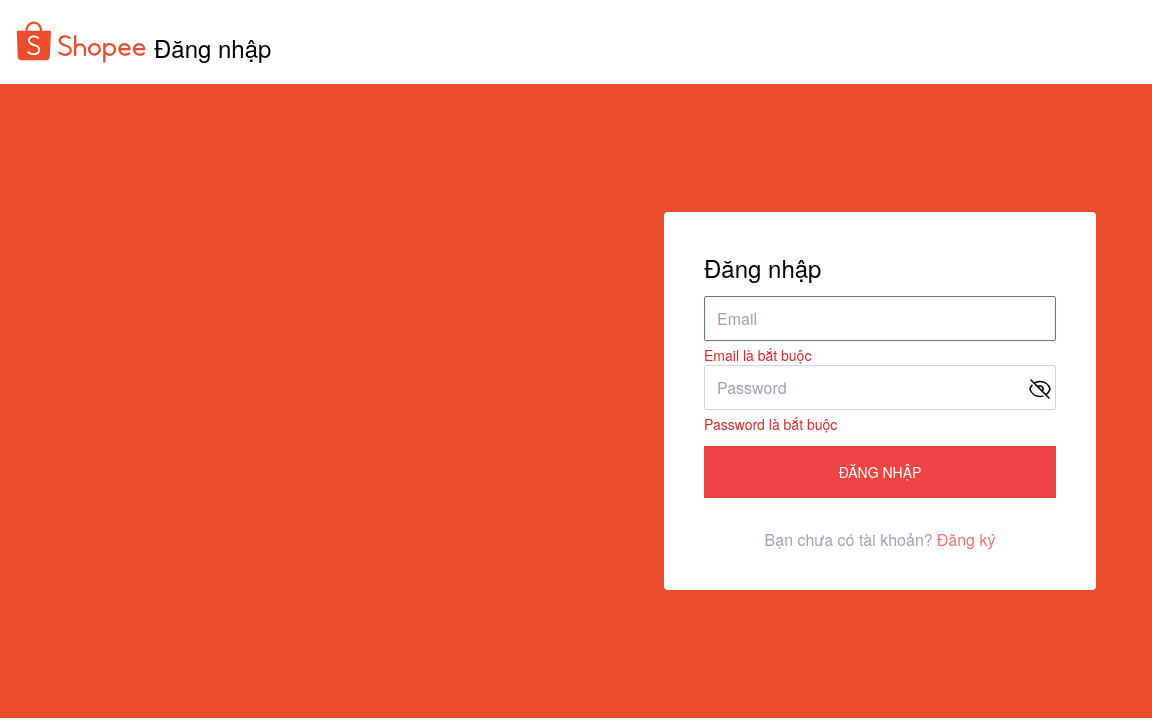
Test: Login › Hiển thị lỗi khi nhập không đúng định dạng
This screenshot has width=1152, height=720.
Type "test@mail" into the field with placeholder "Email".
click(880, 319); type("test@mail")  # box top-left (704, 296), bottom-right (1056, 341)
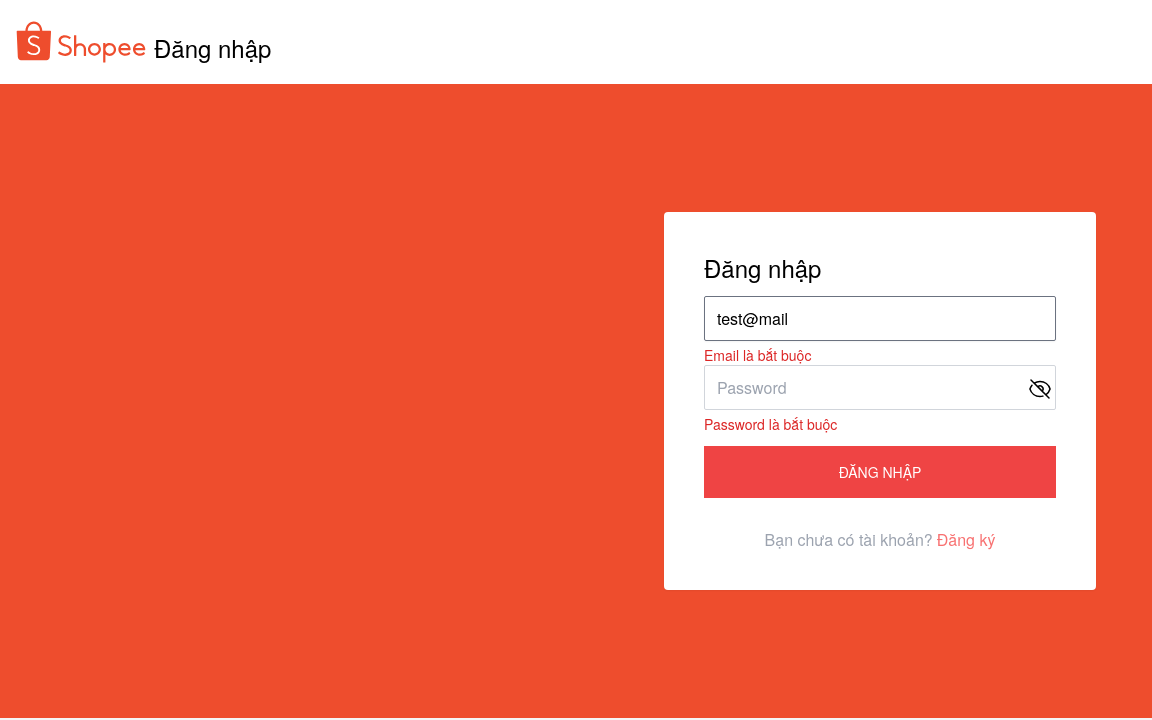
Type "123" into the password field named "password".
click(880, 388); type("123")  # box top-left (704, 365), bottom-right (1056, 410)
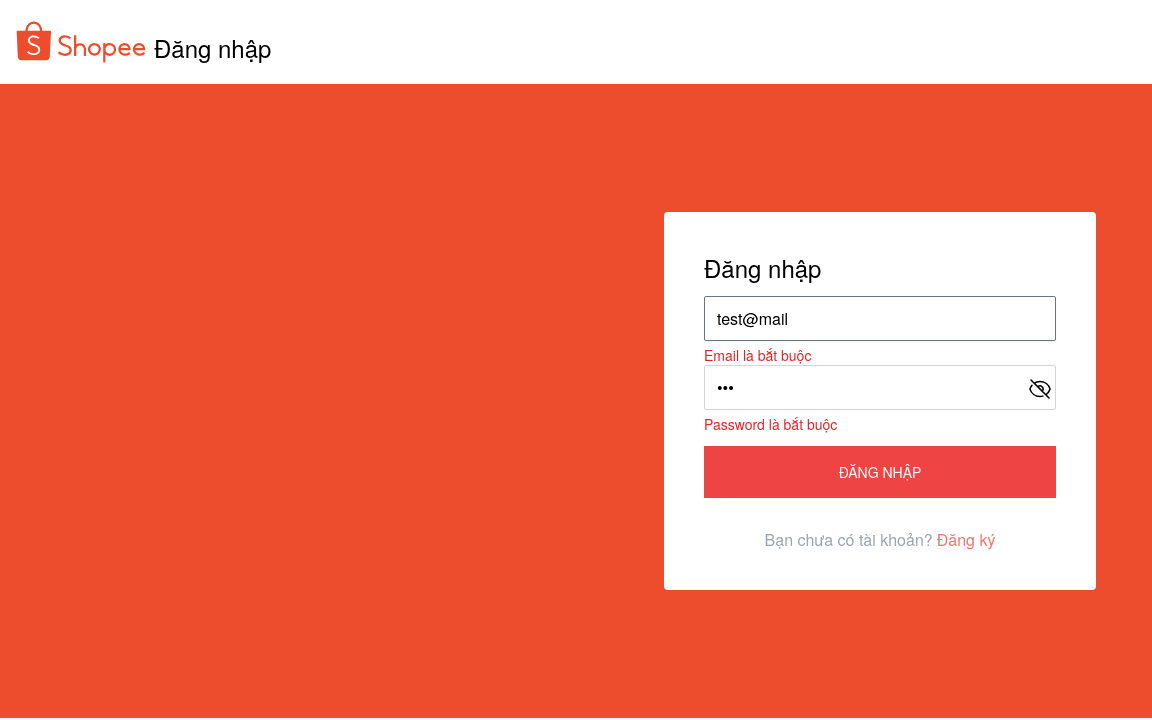
Submit the form from the submit button, box top-left (704, 446), bottom-right (1056, 498)
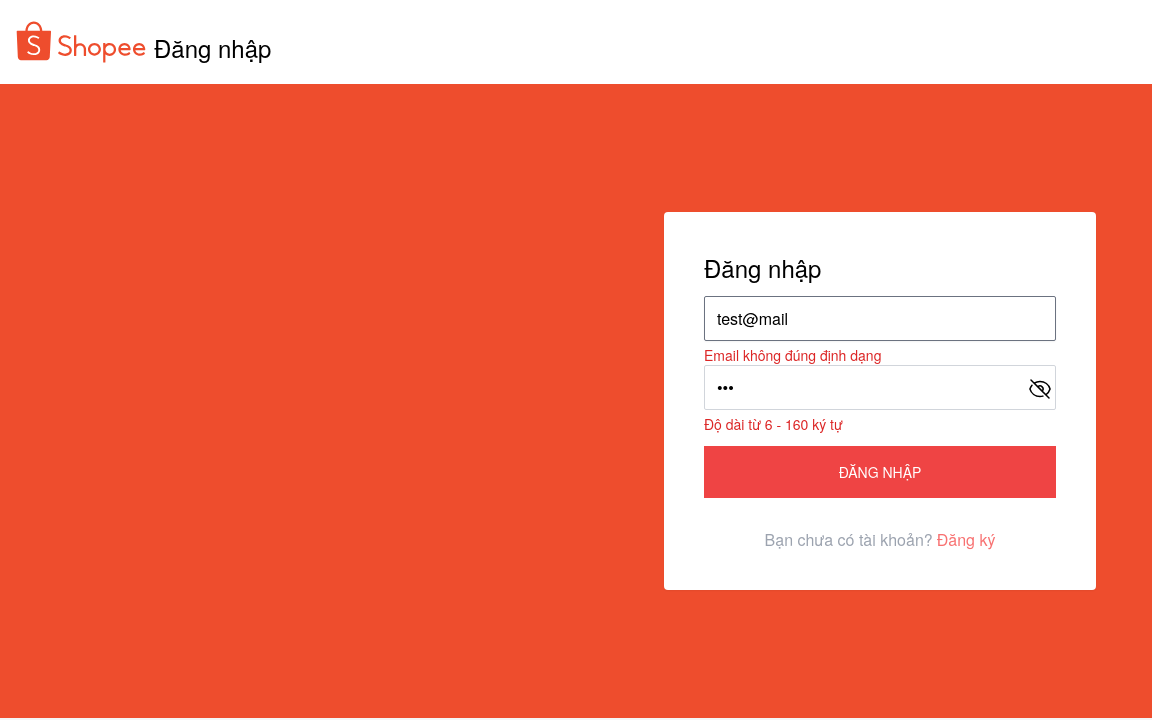
Result: the text "Email không đúng định dạng" is shown at top-left (704, 345), bottom-right (881, 365)
Result: the text "Độ dài từ 6 - 160 ký tự" is shown at top-left (704, 414), bottom-right (843, 434)
